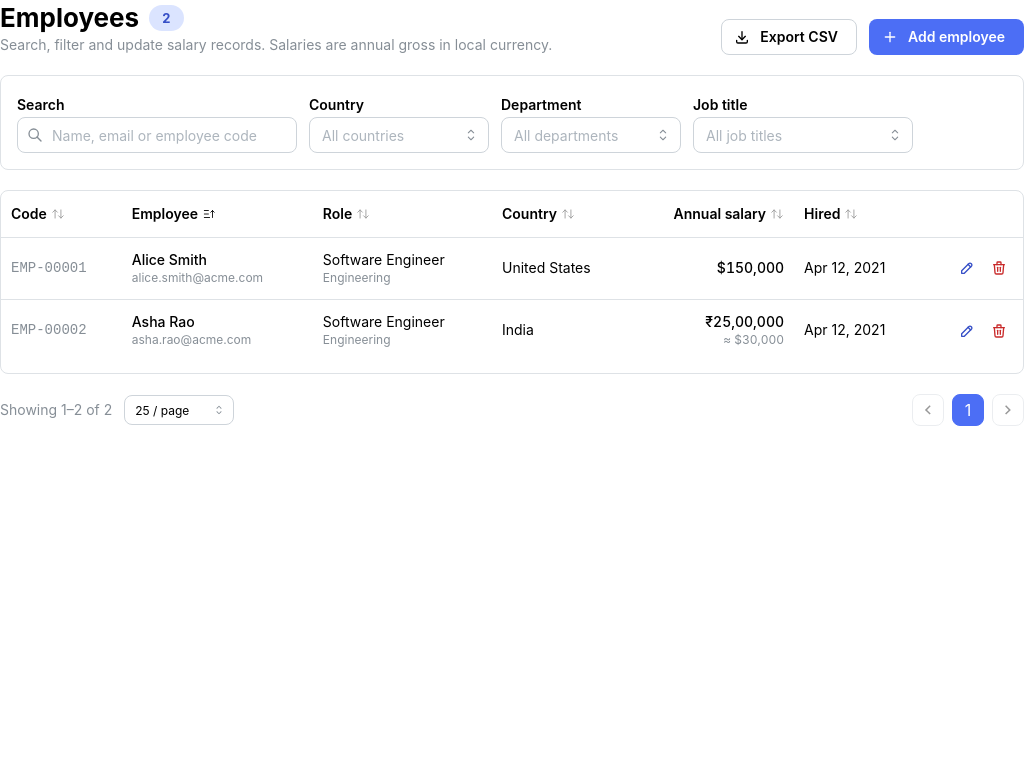
Test case: EmployeesPage › shows validation errors instead of submitting an empty form
Expected: the text "Alice Smith" is shown, [132,251,207,268]
Click the button "Add employee" at (946, 37), box [869,19,1023,55]
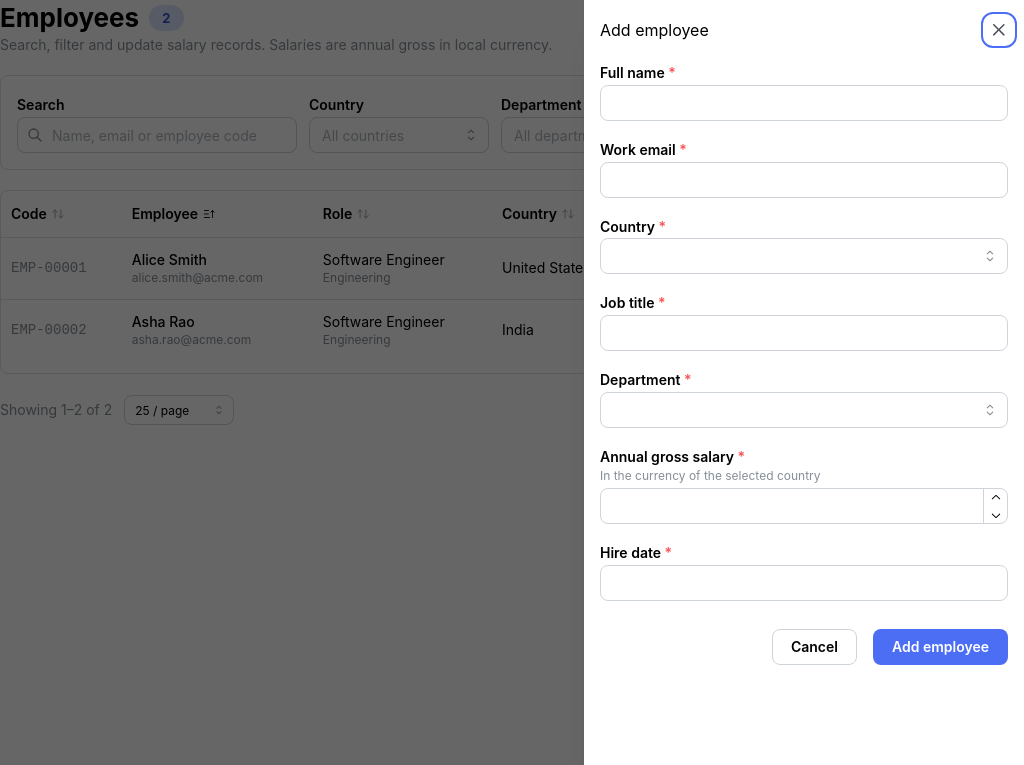
Click the button "Add employee" at (940, 647), box [873,629,1008,665]
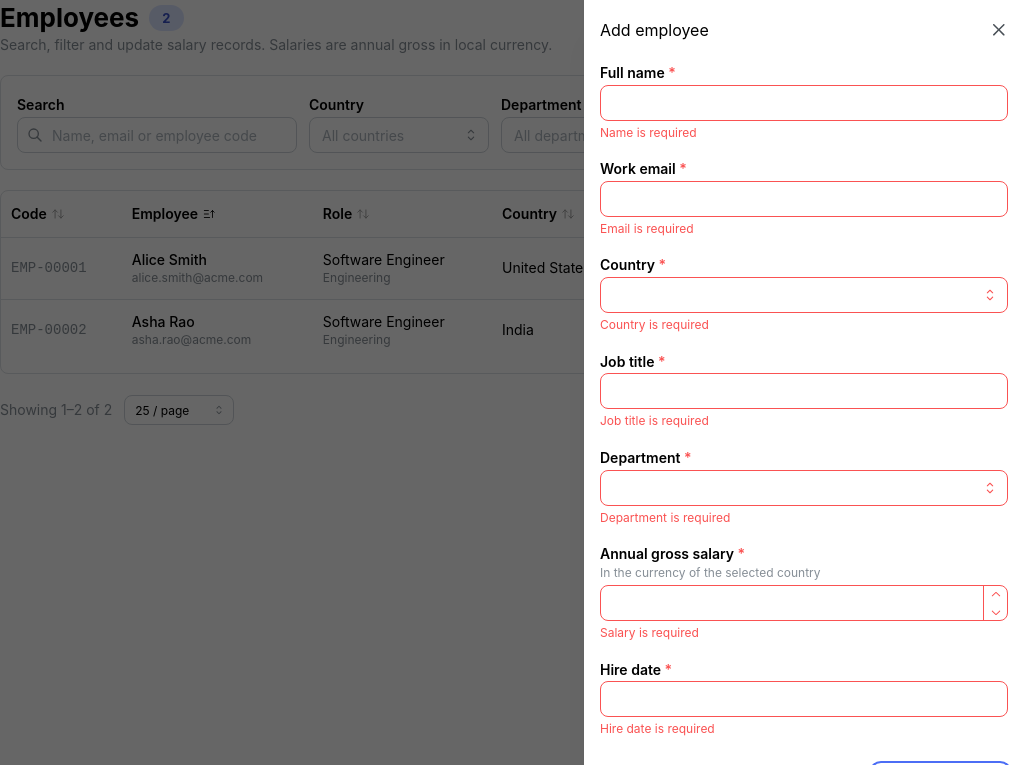
Expected: the text "Name is required" is shown, [600,125,697,140]
Expected: the text "Salary is required" is shown, [600,625,699,640]
